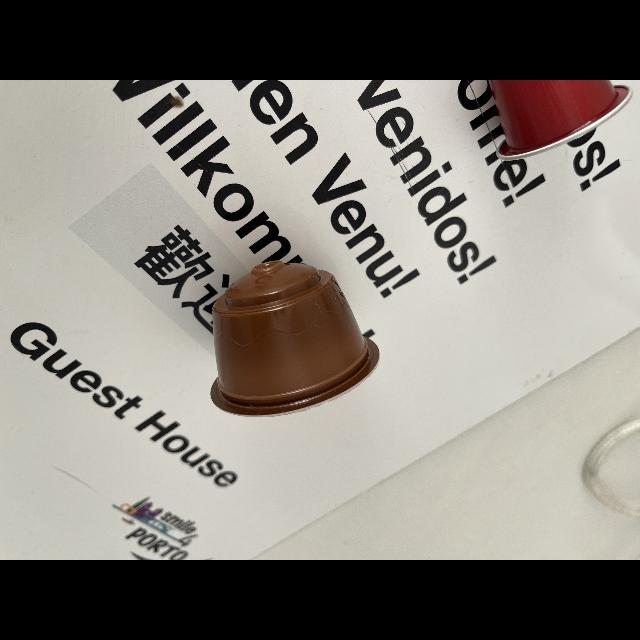intact_capsule: (192, 250, 392, 426)
